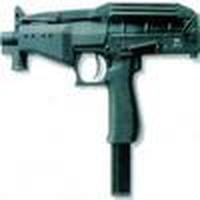gun: (3, 6, 200, 186)
